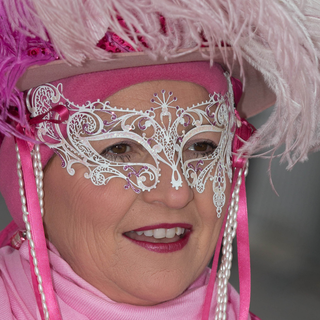eye: (98, 136, 139, 160), (182, 135, 217, 156)
